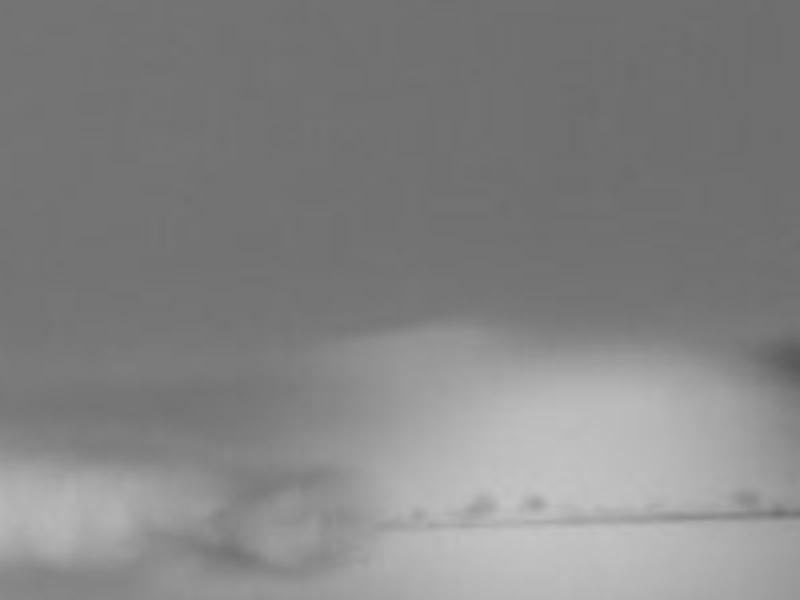defect: (457, 490, 498, 524), (724, 487, 757, 508), (519, 487, 549, 510), (406, 501, 425, 522)
